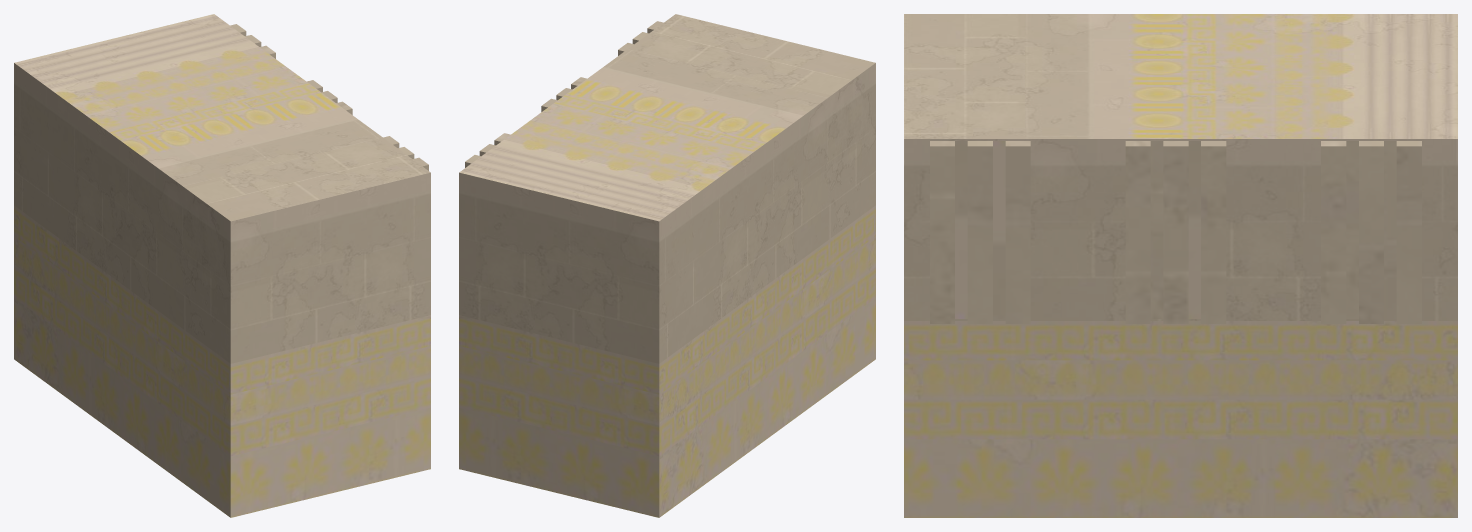
The model's file is SM_temple_decoration.glb.
3 renders of one model, left to right at view 1: azimuth 30°, elevation 25°; view 2: azimuth 150°, elevation 25°; view 3: azimuth 270°, elevation 25°, orthographic. The views are drawn at different scales.
Visible parts, largest first — view 1: SM_temple_decoration; view 2: SM_temple_decoration; view 3: SM_temple_decoration.
Part boxes in pixels (x1,y1,x2,y2): SM_temple_decoration: [14, 14, 430, 517]; SM_temple_decoration: [459, 14, 875, 517]; SM_temple_decoration: [904, 14, 1457, 517].
Size of the model in its own units: 2.5 by 3.4 by 4.5.
1 material, 1 textured.
